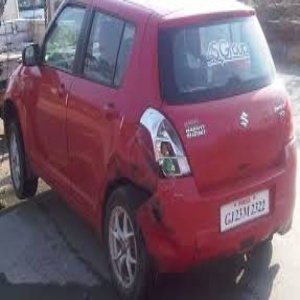bumper: (135, 175, 201, 272)
